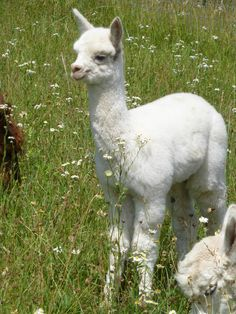alpaca: (69, 7, 229, 309)
